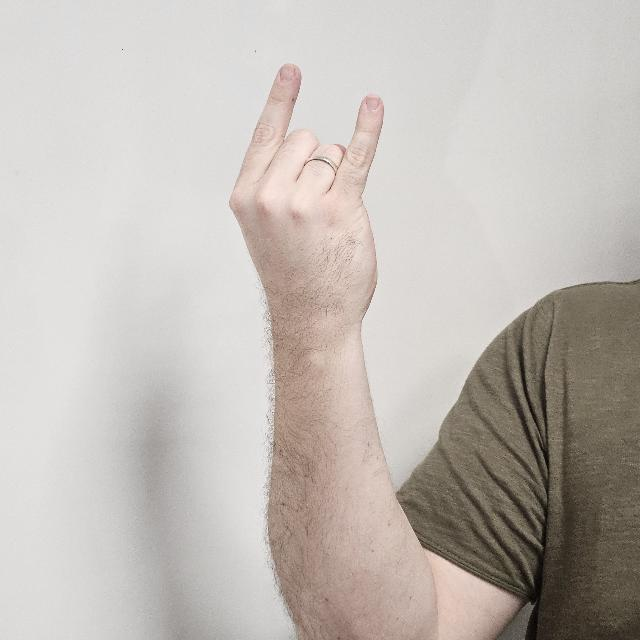L: (228, 65, 384, 359)
